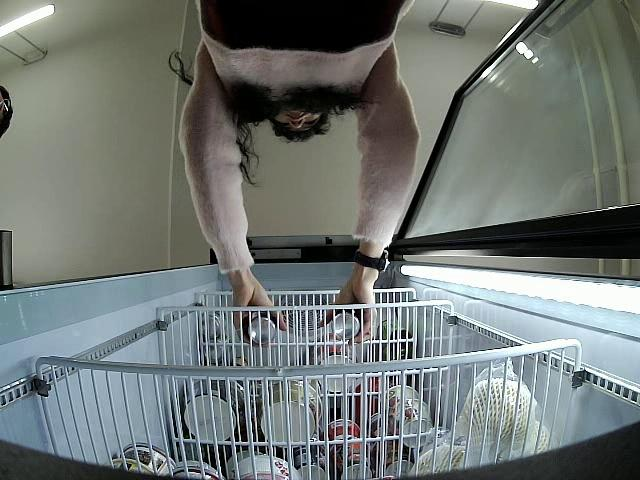00_hand: (228, 272, 290, 343), (325, 270, 376, 344)
16_hot6: (241, 309, 277, 348), (331, 306, 364, 341)
